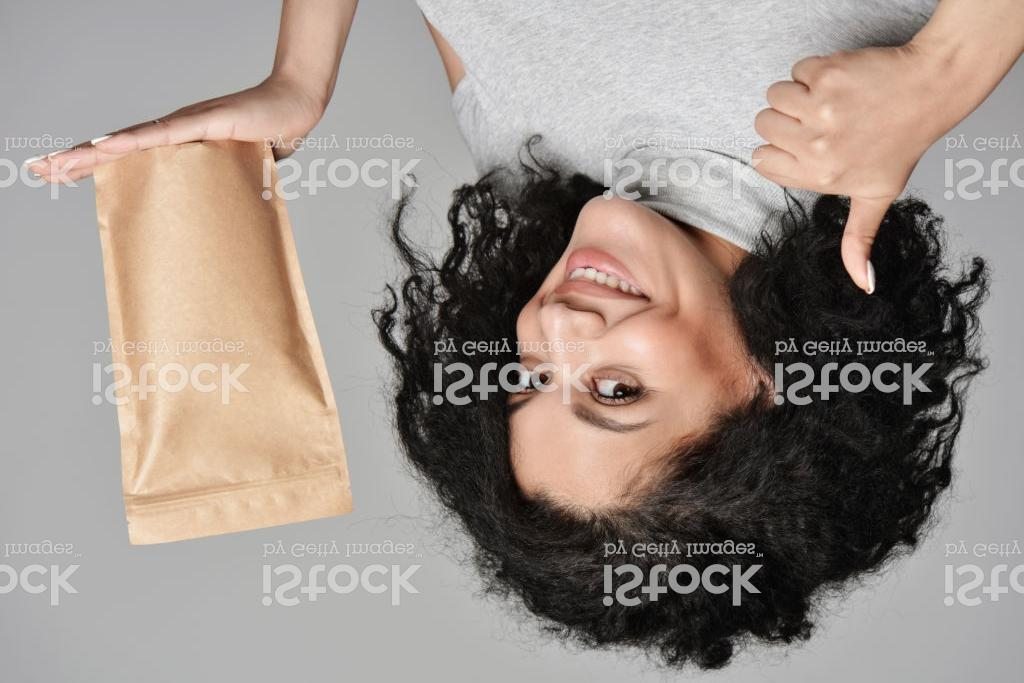thumbsdown: (749, 39, 904, 298)
